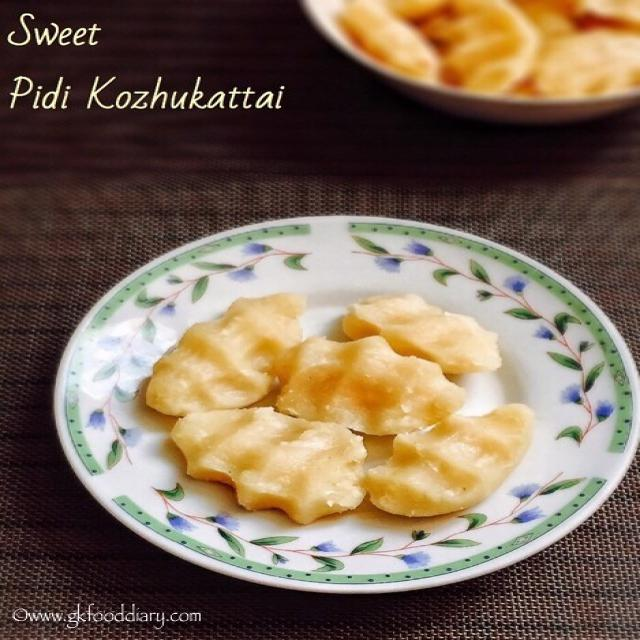pidi kolukattai: (133, 274, 533, 554)
